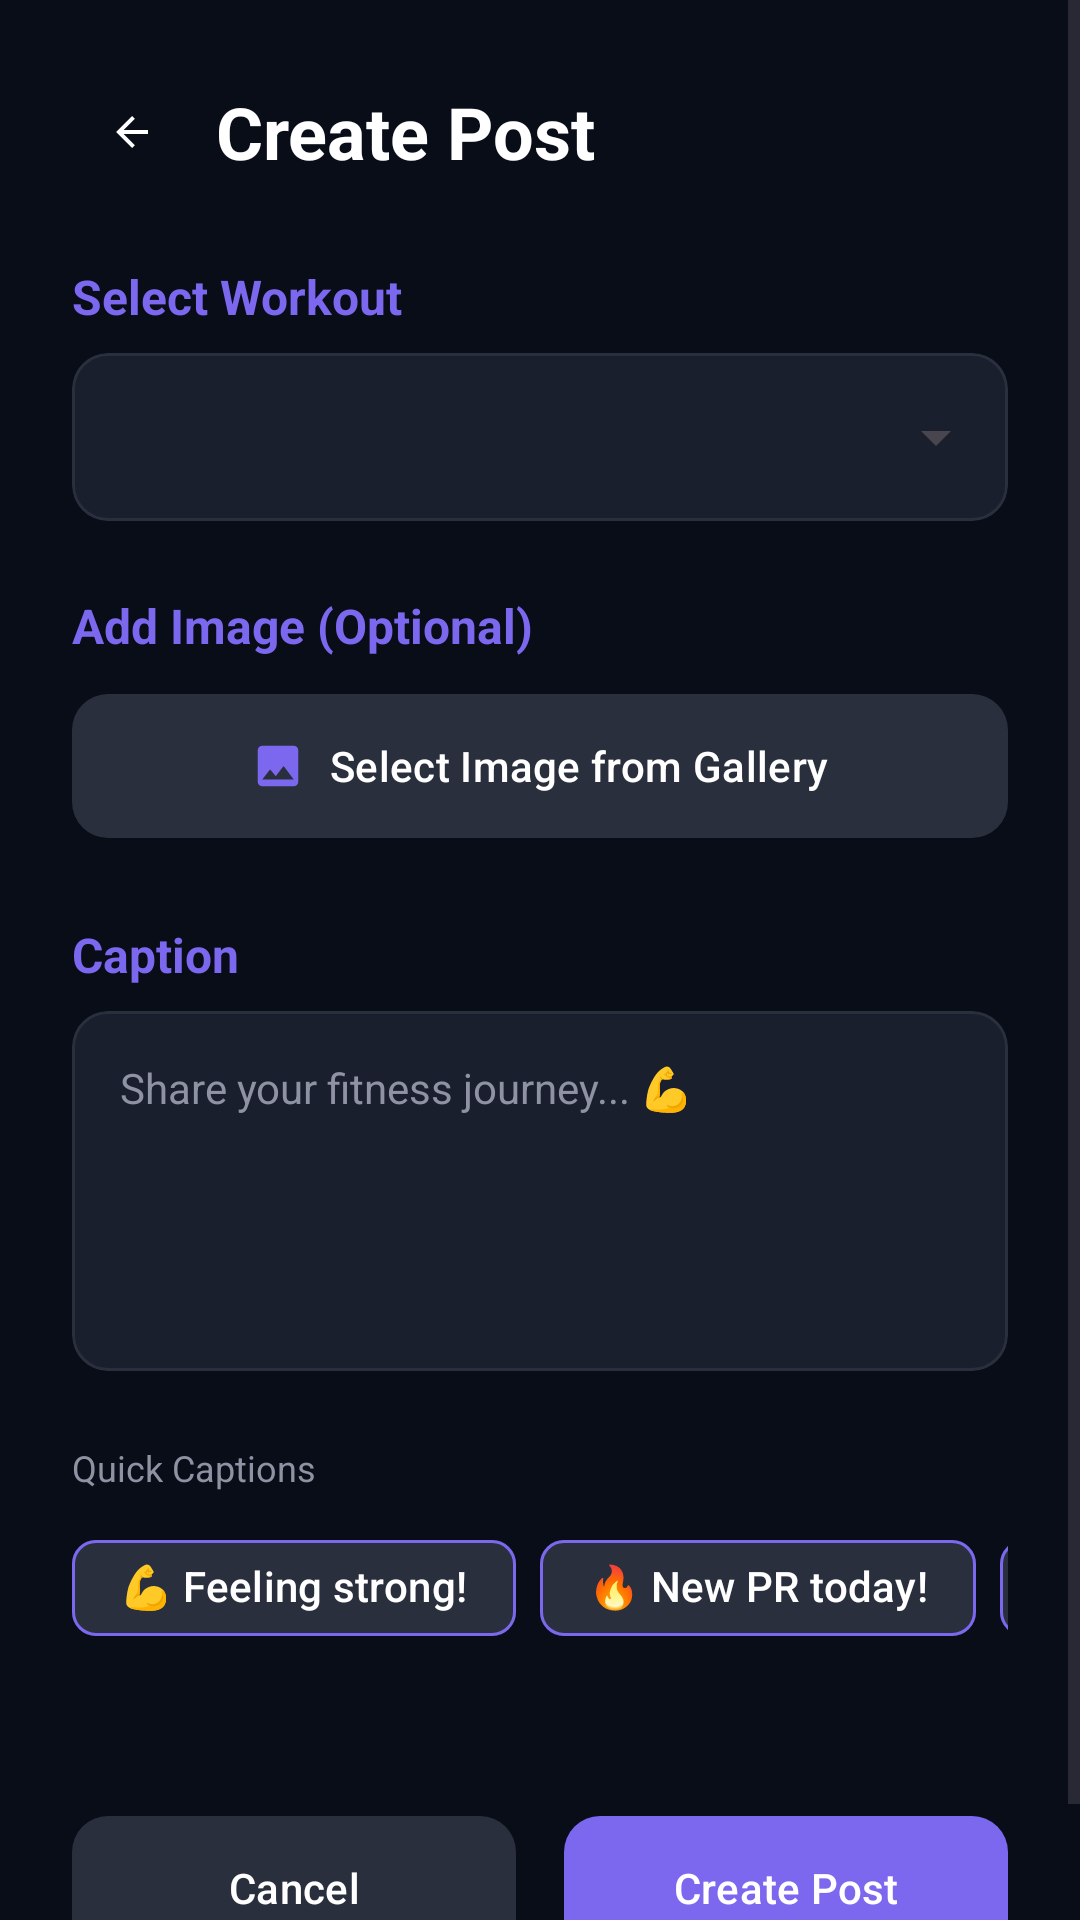

Locate icon controls on the screen. Image size 1080x1920, boxes as (x1, y1, x2, y2).
arrow back: (116, 116, 148, 148)
